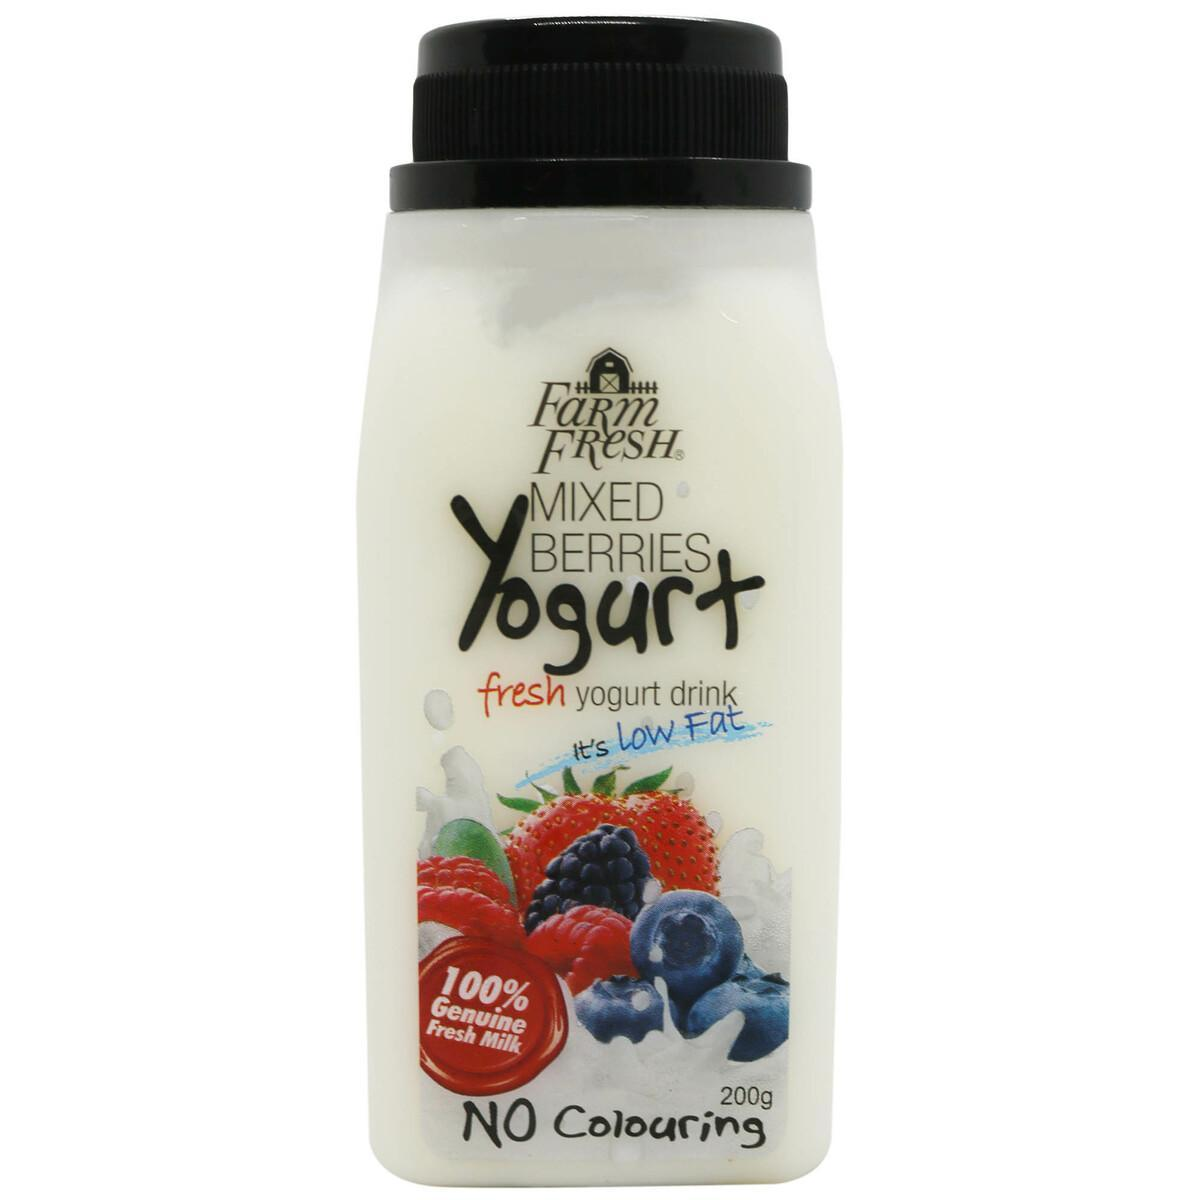bottle: (351, 4, 848, 1186)
